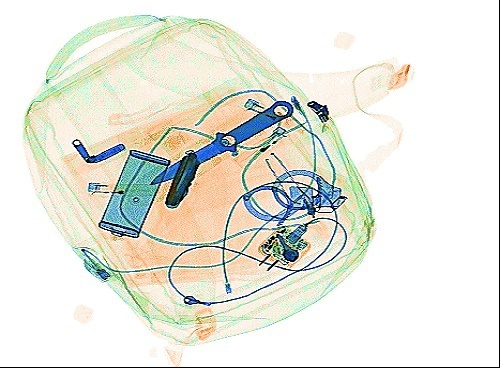handcuffs: (242, 168, 347, 226)
knife: (148, 97, 295, 186), (163, 147, 201, 209)
lighter: (231, 125, 288, 170), (241, 96, 297, 129), (84, 179, 157, 198)
zippooil: (96, 147, 171, 237)
